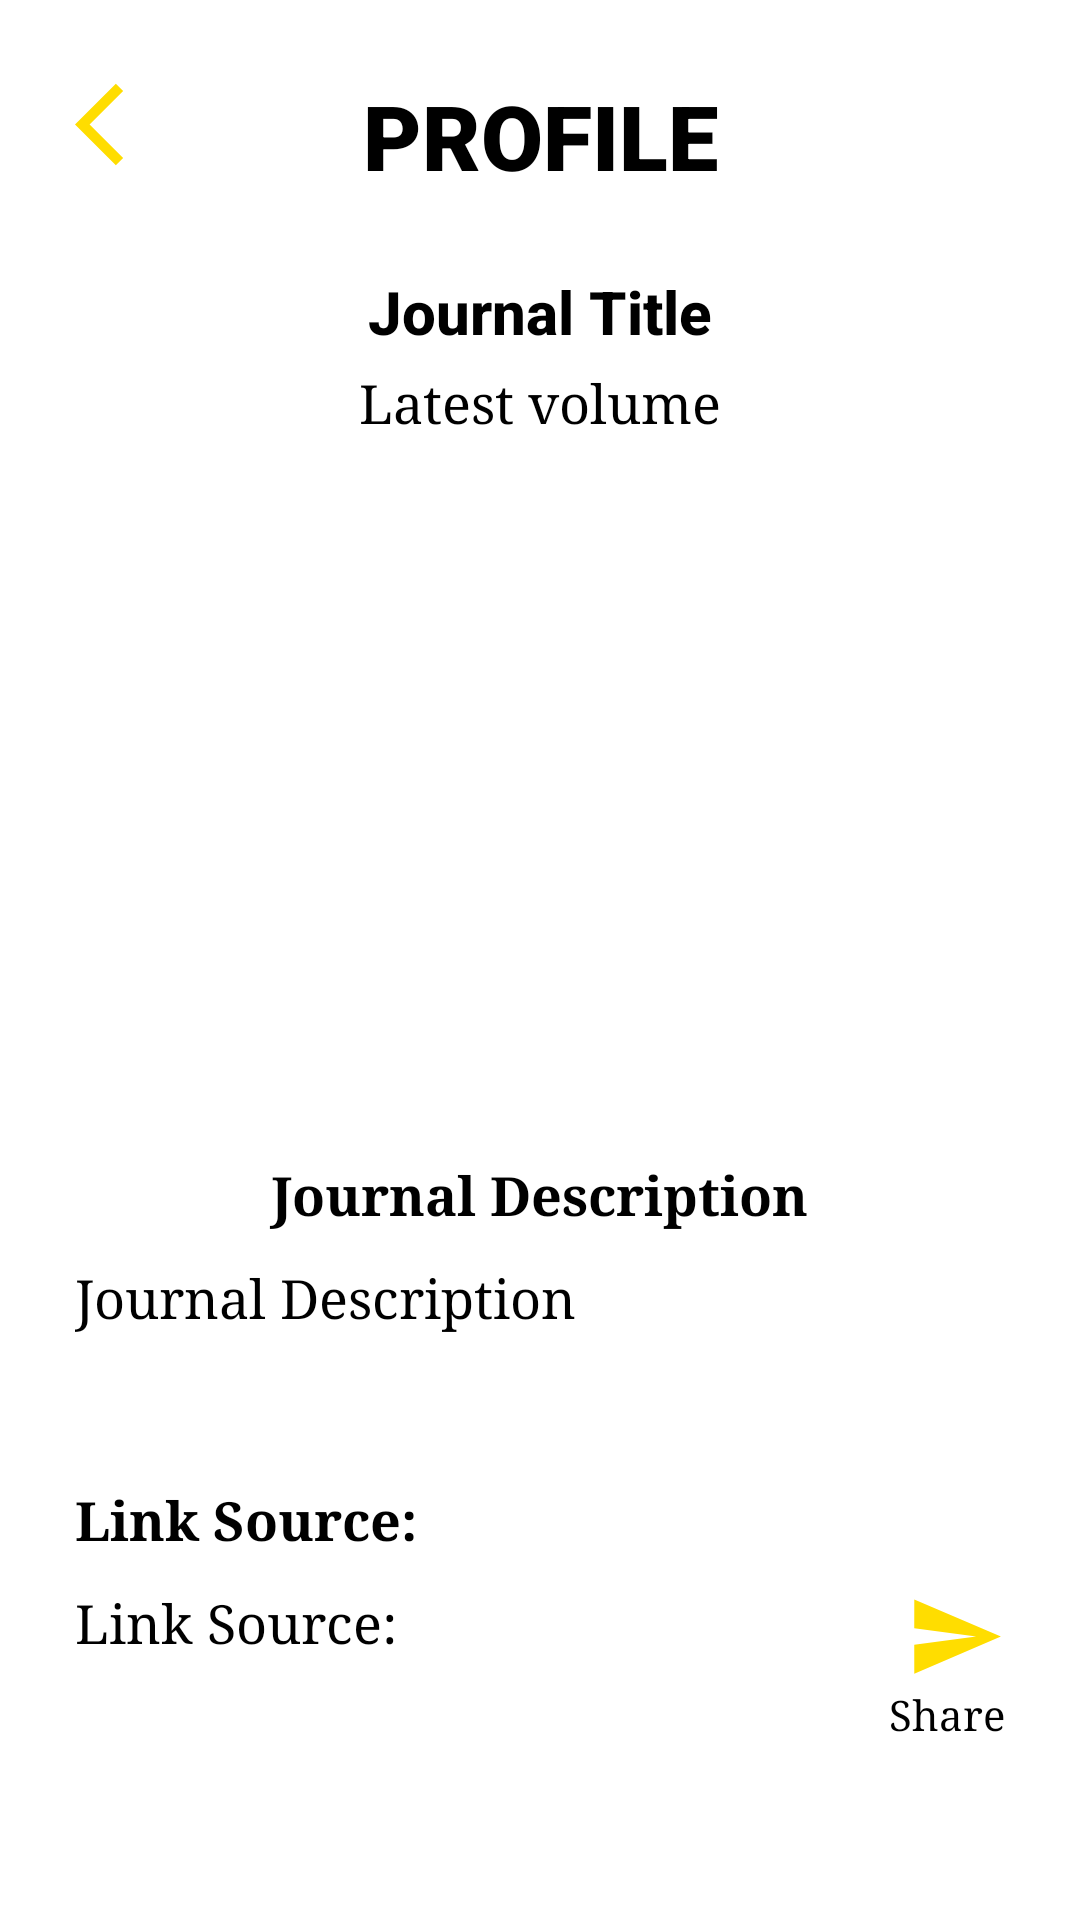

Screen size 1080w x 1920h. Icon name, then its center in pixels as point (x, y):
arrow back: point (99, 124)
send: point (957, 1636)
